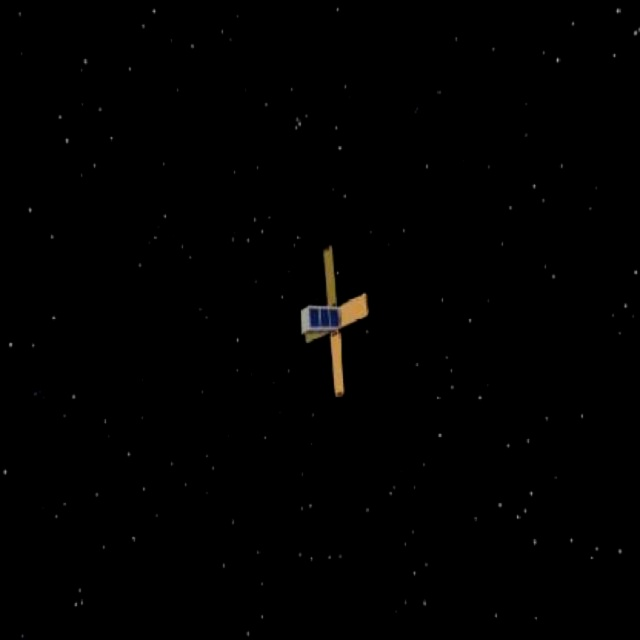medium_debris: (288, 235, 404, 404)
